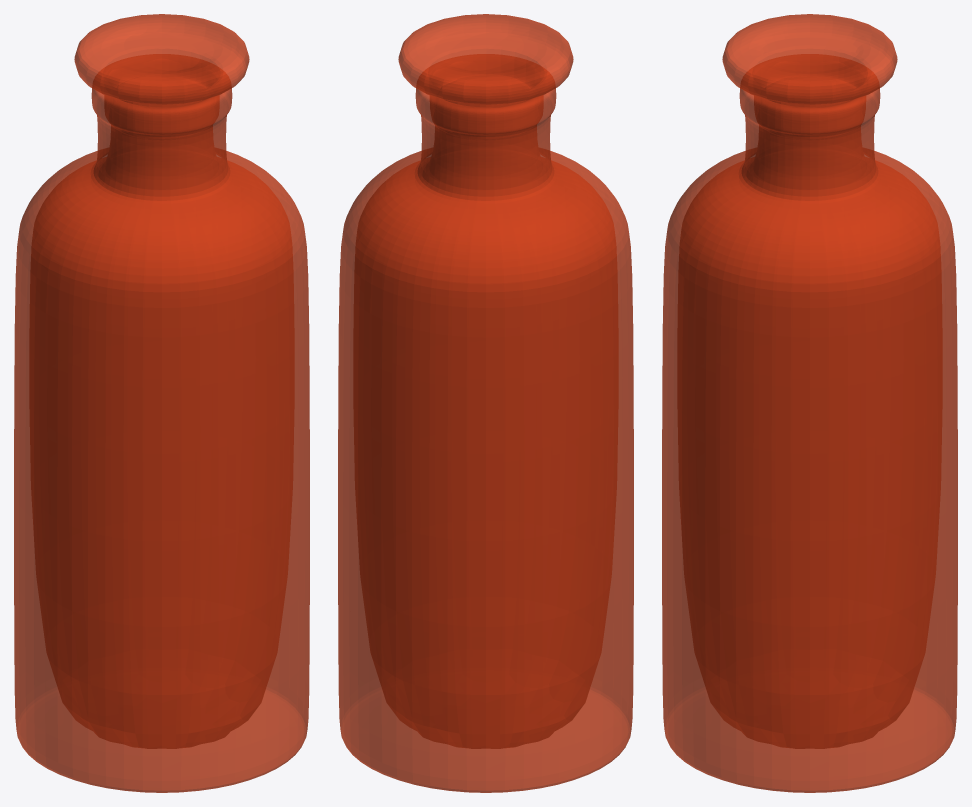
The model's file is SM_溶液瓶1.fbx.
3 views of the same model, side by side, from view 1: azimuth 30°, elevation 25°; view 2: azimuth 150°, elevation 25°; view 3: azimuth 270°, elevation 25° (orthographic).
Visible parts, largest first — view 1: SM_溶液瓶, SM_溶液瓶盖; view 2: SM_溶液瓶, SM_溶液瓶盖; view 3: SM_溶液瓶, SM_溶液瓶盖.
Boxes of the visible parts, <box> form: SM_溶液瓶: <box>14,58,309,792</box>; SM_溶液瓶盖: <box>74,14,249,139</box>; SM_溶液瓶: <box>338,61,633,792</box>; SM_溶液瓶盖: <box>398,14,573,139</box>; SM_溶液瓶: <box>662,61,957,792</box>; SM_溶液瓶盖: <box>722,14,897,139</box>.
Size of the model in its own units: 0.0572 by 0.1466 by 0.0572.
